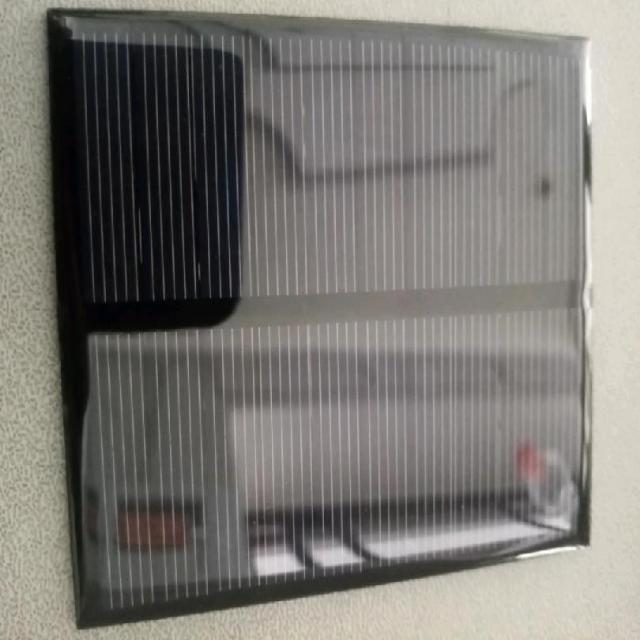no faulty: (43, 0, 616, 596)
